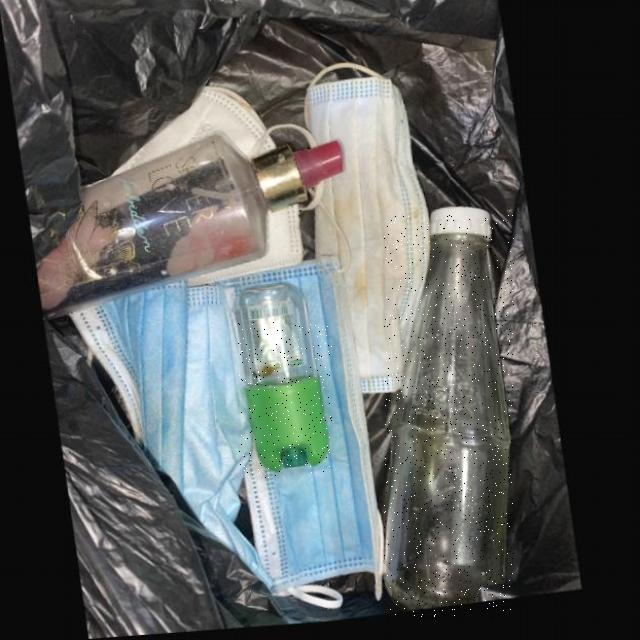glass: (385, 215, 514, 618)
plastic: (43, 137, 353, 321), (238, 289, 332, 477)
